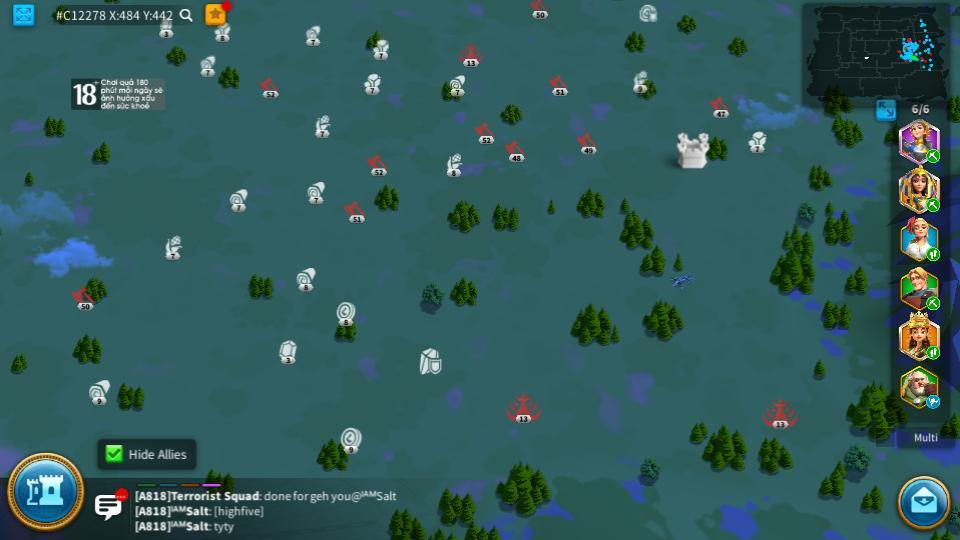gem-z-out: (276, 340, 298, 363)
march_farming: (925, 197, 941, 212), (925, 149, 941, 162), (925, 297, 942, 308)
march_idle: (925, 396, 942, 408)
march_marching: (925, 347, 942, 359), (928, 247, 938, 261)
